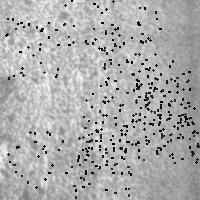pitted_surface: (1, 1, 129, 188), (94, 37, 154, 96), (78, 114, 138, 173), (85, 93, 145, 150), (135, 78, 192, 138), (138, 104, 196, 162), (131, 60, 188, 119), (71, 139, 128, 196), (105, 7, 159, 67), (7, 131, 65, 186), (5, 18, 57, 77), (153, 99, 200, 157), (60, 0, 118, 44)
